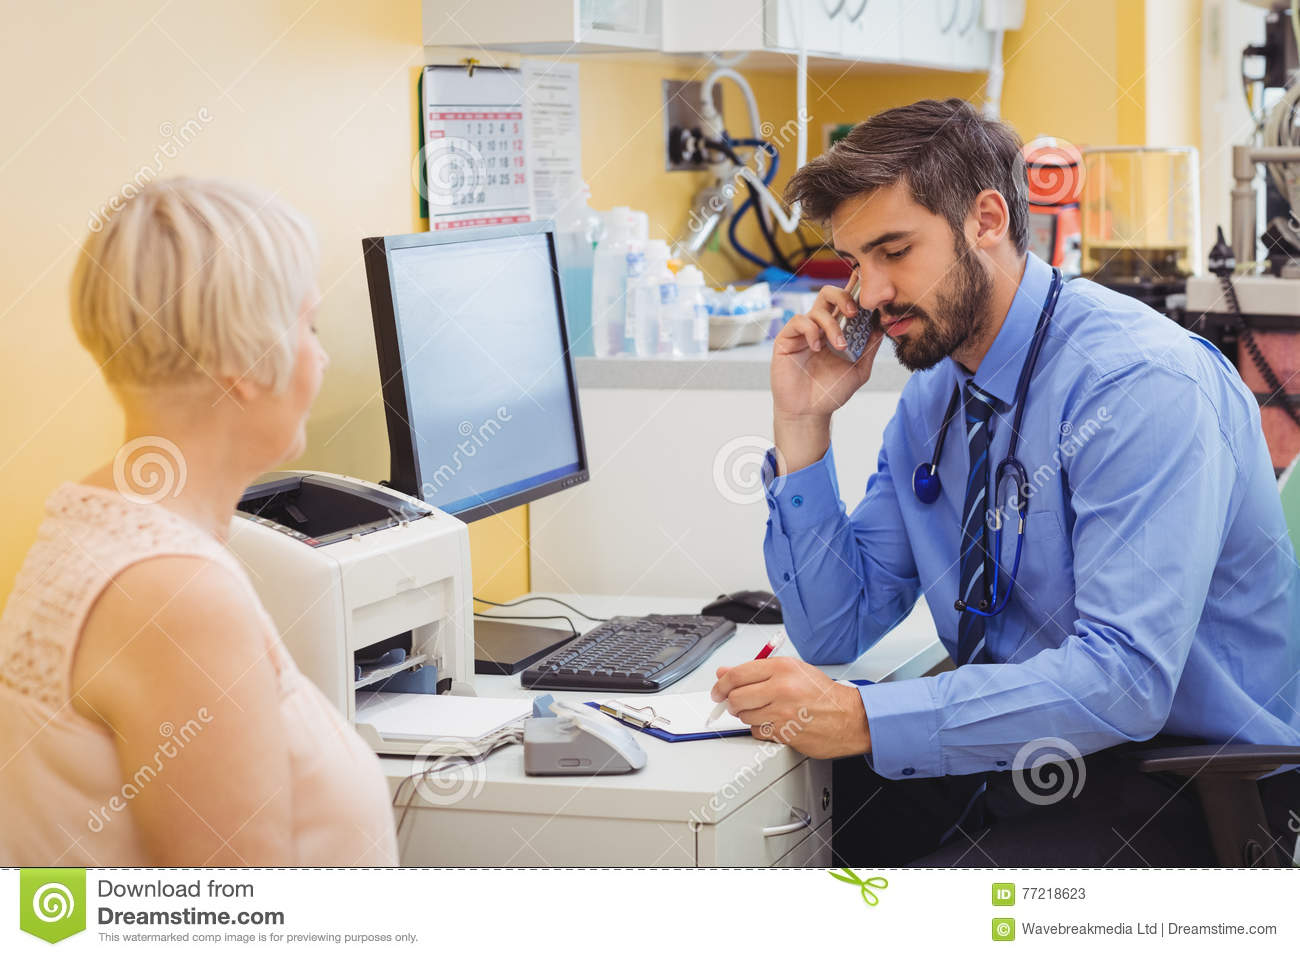talk: (764, 222, 938, 438)
